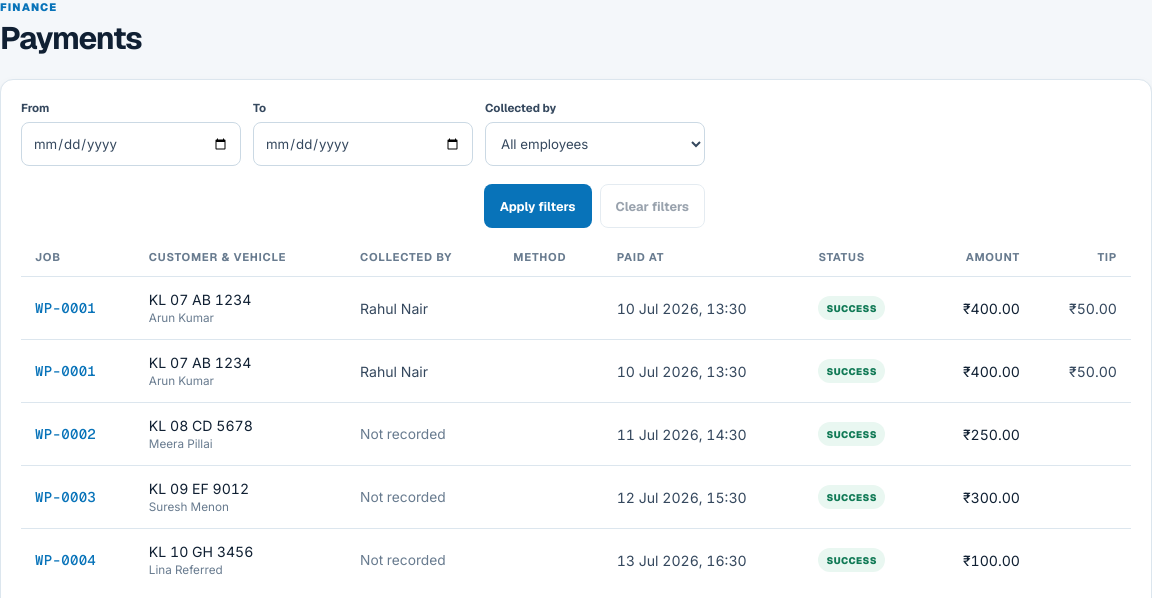
Test case: Payments — admin filter controls › rejects a reversed date range with an exact message and no request
The width and height of the screenshot is (1152, 598).
Type "2026-07-15" into the date field labelled "From" at (131, 144), box left=21, top=122, right=241, bottom=166
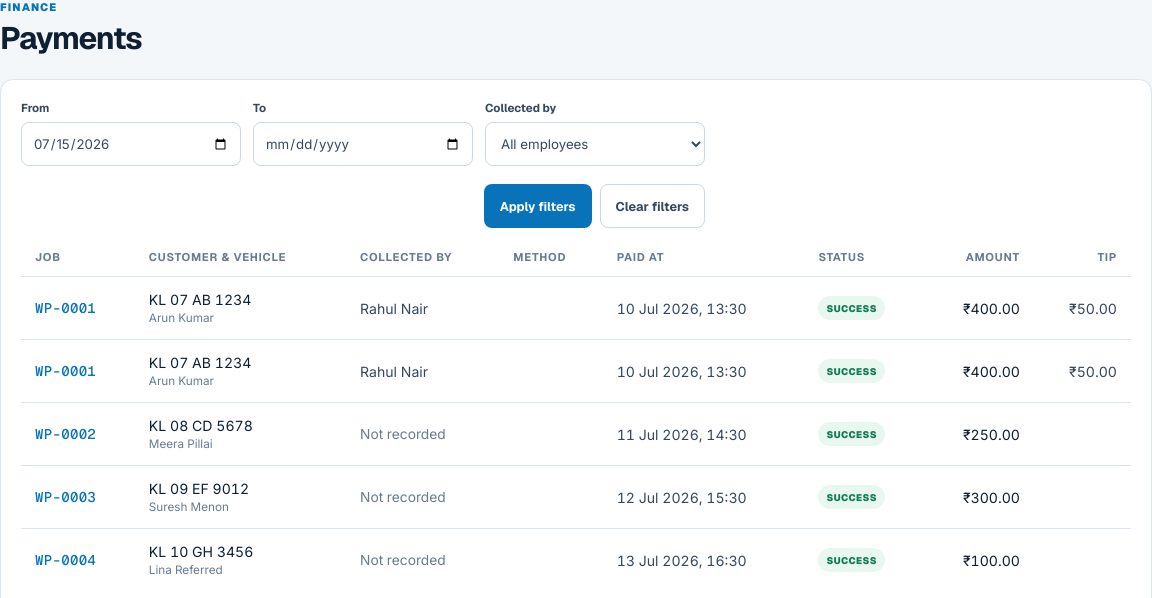
Type "2026-07-01" into the date field labelled "To" at (363, 144), box left=253, top=122, right=473, bottom=166
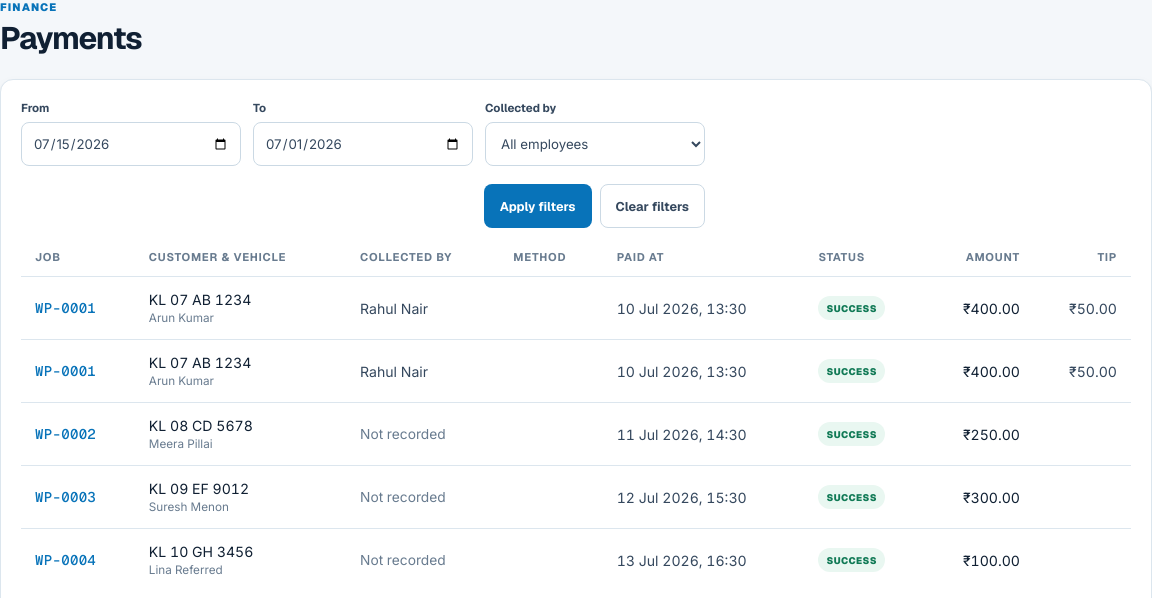
Click the button "Apply filters" at (538, 206), box left=484, top=184, right=592, bottom=228
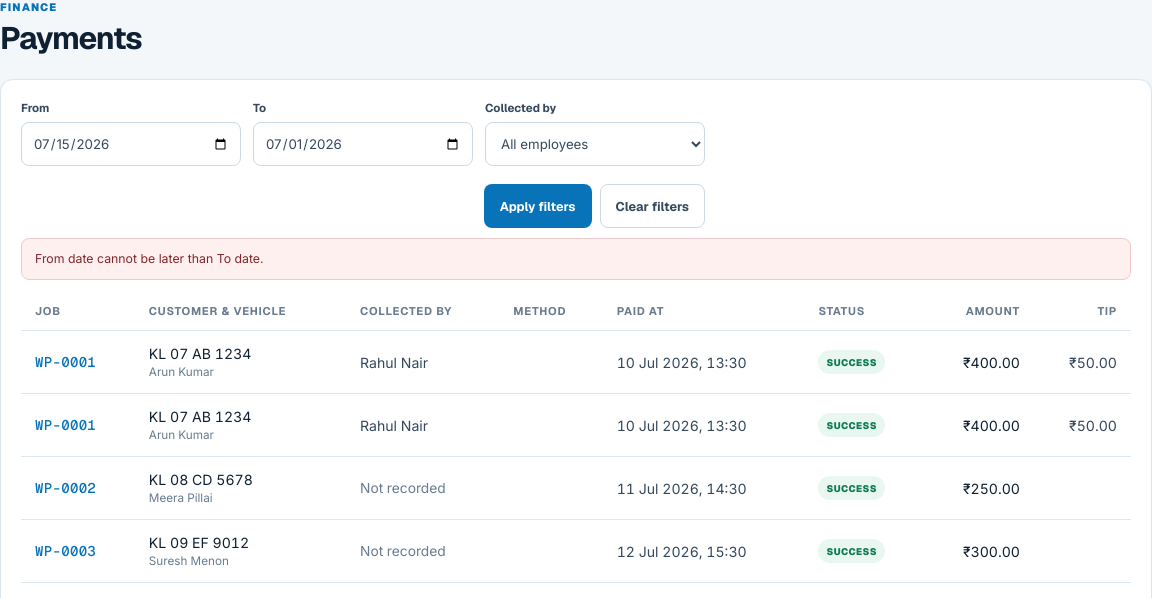
Expected: the message reads "From date cannot be later than To date.", left=35, top=251, right=264, bottom=266
